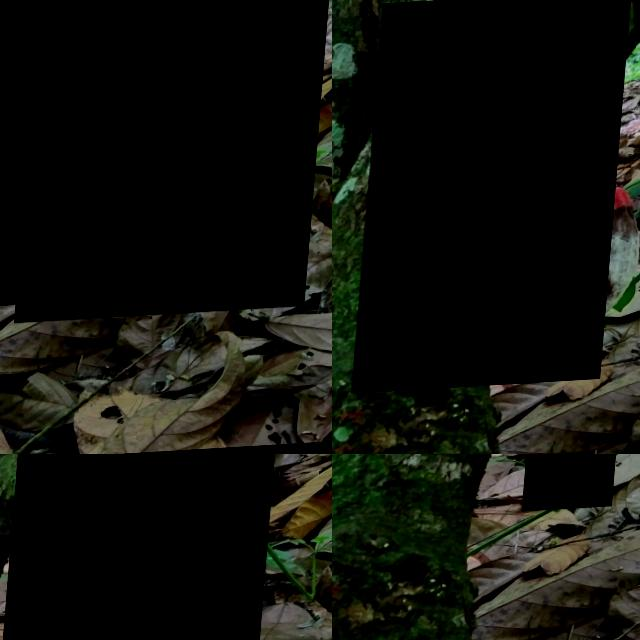Monilia: (359, 0, 632, 395), (529, 454, 628, 515)
Sana: (22, 0, 332, 326), (4, 454, 286, 640)
